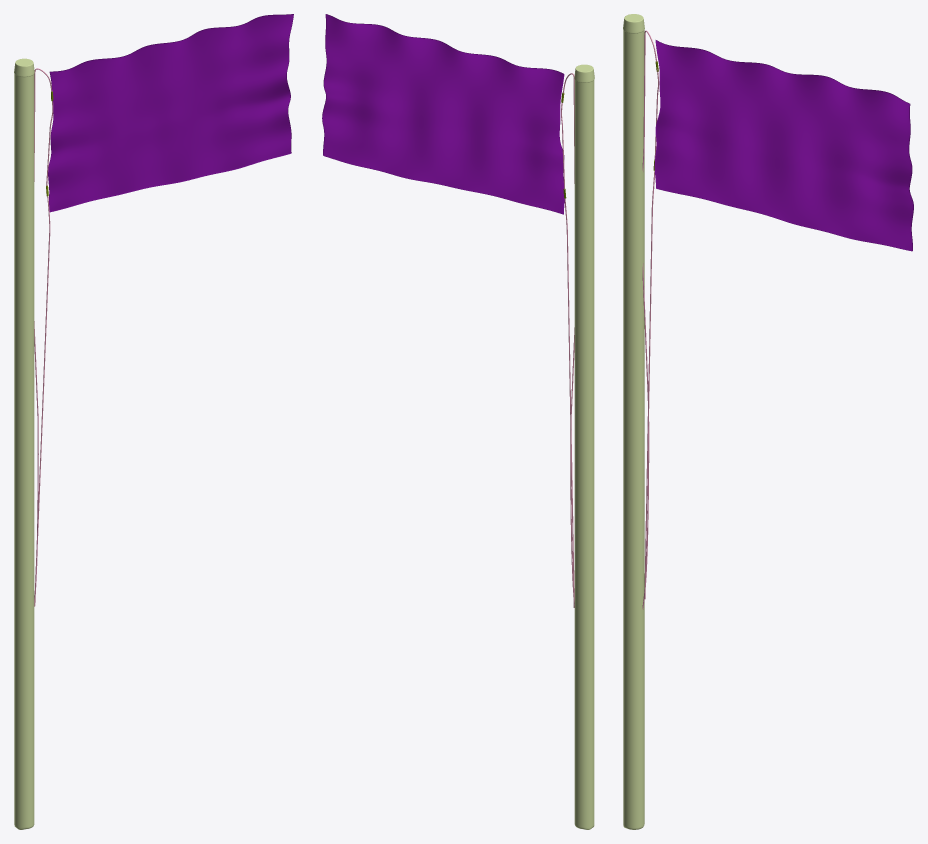
Rendered from bayrak.obj.
3 renders of one model, left to right at view 1: azimuth 30°, elevation 25°; view 2: azimuth 150°, elevation 25°; view 3: azimuth 330°, elevation 25°, orthographic. The views are drawn at different scales.
Visible parts, largest first — view 1: Plane001, Line001, Line004; view 2: Plane001, Line001, Line004; view 3: Plane001, Line001, Line004.
Part boxes in pixels (<box>): Plane001: <box>48,14,293,212</box>; Line001: <box>14,58,34,829</box>; Line004: <box>34,68,53,606</box>; Plane001: <box>322,14,564,214</box>; Line001: <box>574,64,594,829</box>; Line004: <box>561,73,574,607</box>; Plane001: <box>654,40,913,251</box>; Line001: <box>623,14,644,829</box>; Line004: <box>642,30,659,609</box>.
Bounding box in the file's own units: 282 × 750 × 18.4.
